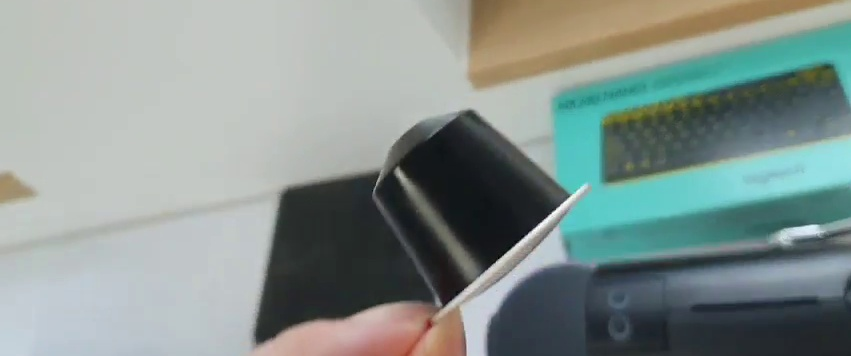capsule_10: (368, 104, 594, 321)
